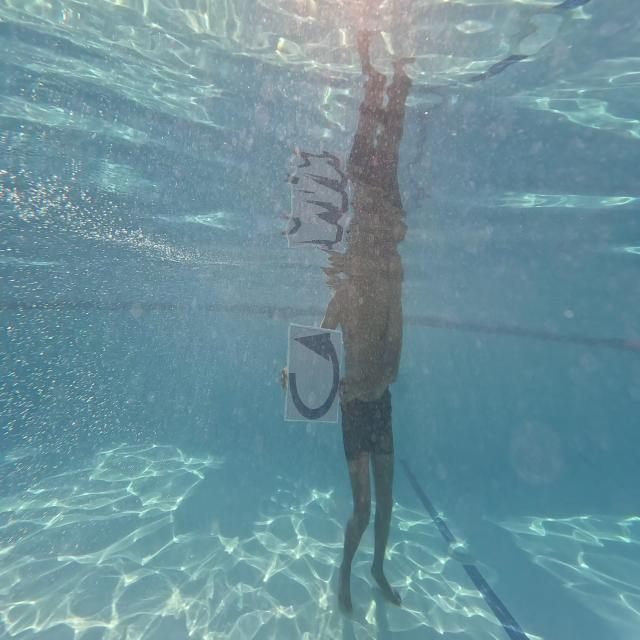blue_side: (282, 322, 350, 422)
